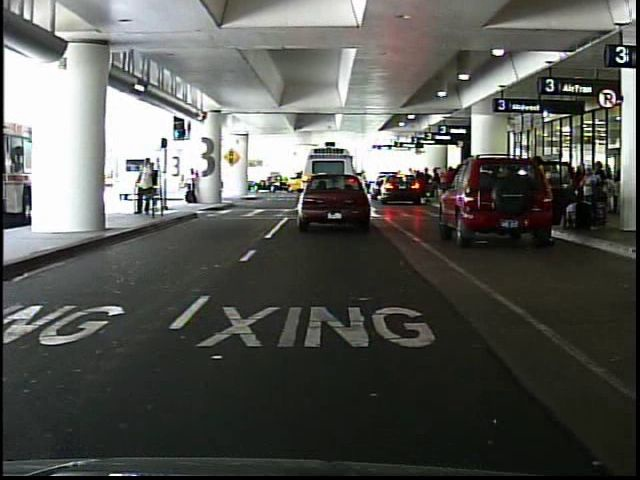person: (529, 153, 560, 234), (134, 155, 156, 219), (150, 161, 166, 217), (183, 167, 202, 207), (440, 163, 457, 201)
